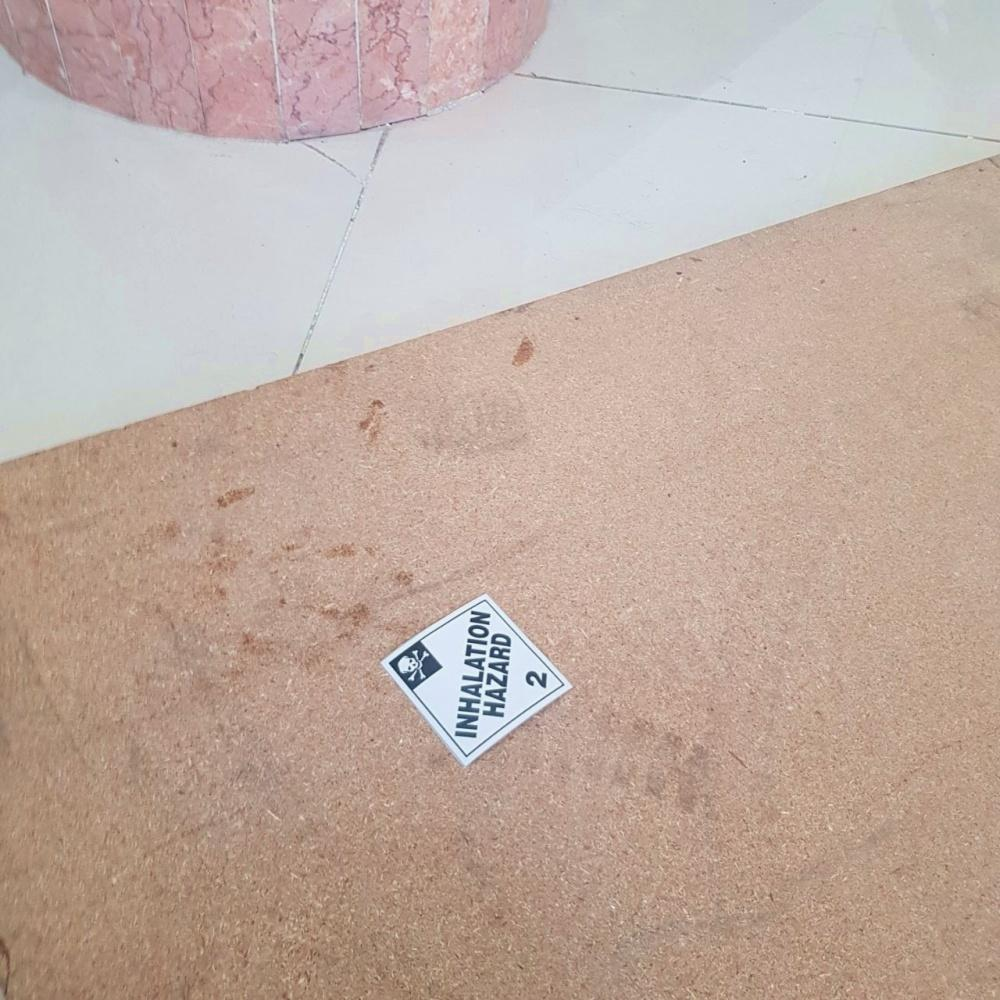poison: (378, 592, 572, 765)
